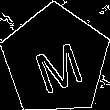M_N: (26, 29, 85, 92)
